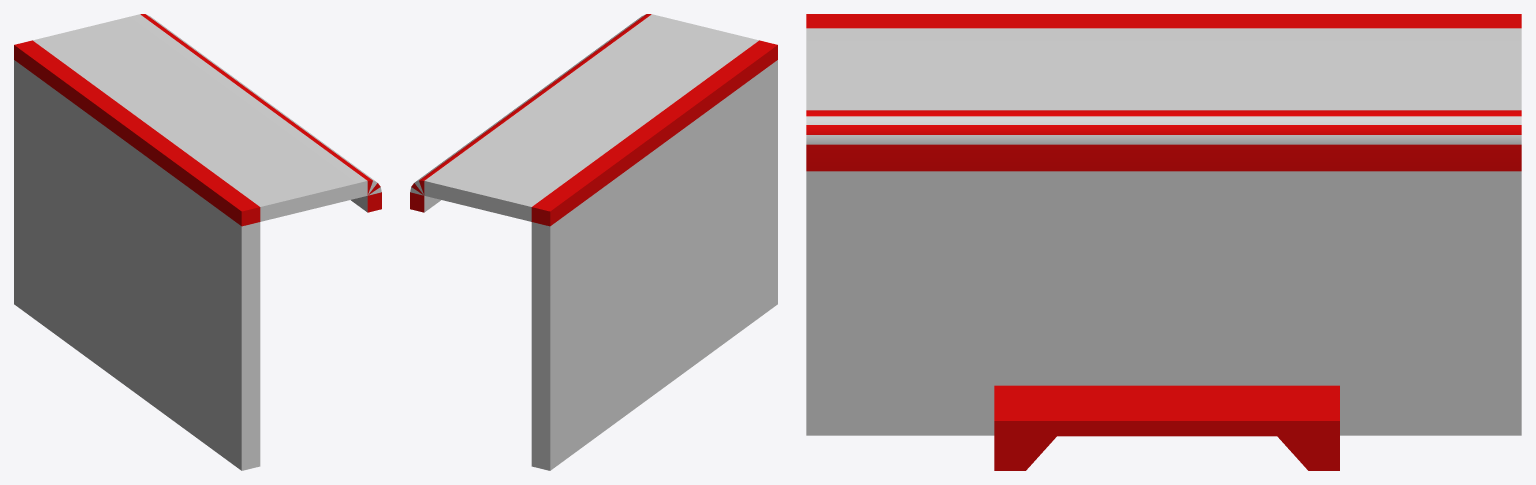
Rendered from station.fbx.
3 renders of one model, left to right at view 1: azimuth 30°, elevation 25°; view 2: azimuth 150°, elevation 25°; view 3: azimuth 270°, elevation 25°, orthographic. The views are drawn at different scales.
Visible parts, largest first — view 1: station; view 2: station; view 3: station.
Part boxes in pixels (<box>): station: <box>14,14,381,470</box>; station: <box>410,14,777,470</box>; station: <box>806,14,1521,470</box>.
Bounding box in the file's own units: 3.7 × 6.55 × 10.42.
